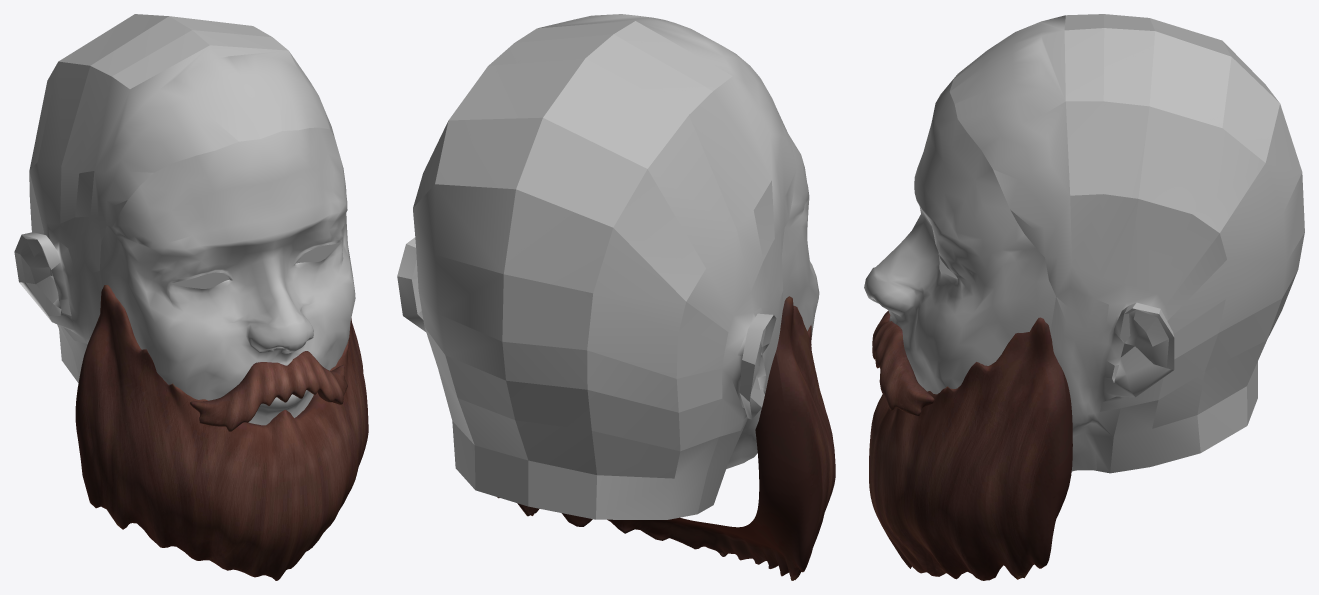
File: mustache3.glb
3 renders of one model, left to right at view 1: azimuth 30°, elevation 25°; view 2: azimuth 150°, elevation 25°; view 3: azimuth 270°, elevation 25°, orthographic. The views are drawn at different scales.
Visible parts, largest first — view 1: Occluder, beard, stache; view 2: Occluder, beard; view 3: Occluder, beard, stache.
Boxes of the visible parts, x1,y1,x2,y2 form: Occluder: [14, 14, 355, 425]; beard: [75, 285, 368, 580]; stache: [190, 351, 347, 431]; Occluder: [397, 14, 819, 519]; beard: [497, 296, 835, 580]; Occluder: [864, 14, 1304, 473]; beard: [869, 317, 1072, 580]; stache: [872, 311, 934, 415].
Size of the model in its own units: 0.1841 by 0.2951 by 0.2177.
2 materials, 1 textured.
